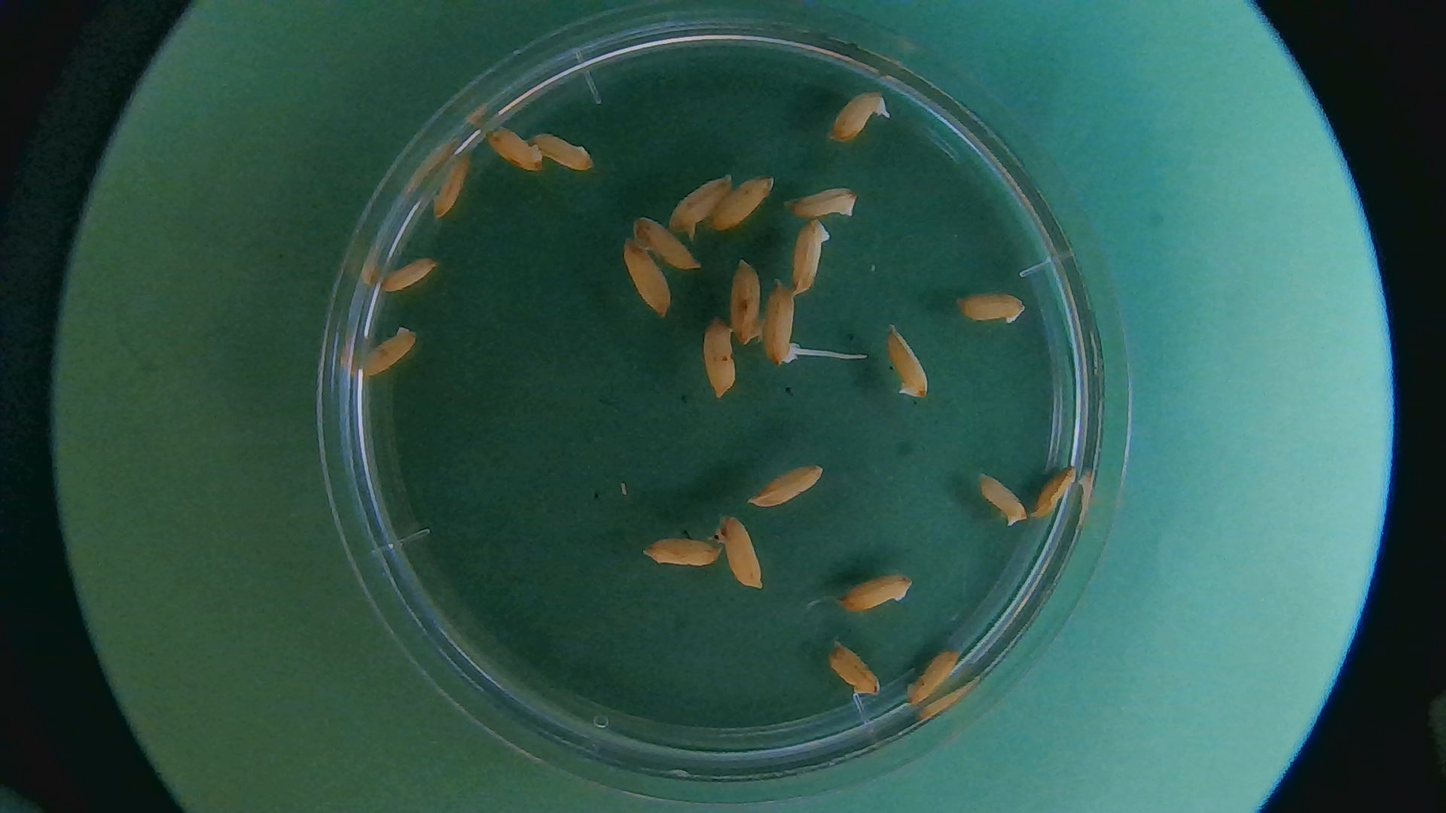no: (621, 236, 674, 316), (711, 513, 764, 591), (669, 174, 734, 235), (633, 216, 705, 270), (884, 323, 932, 399), (482, 120, 544, 178), (828, 639, 884, 703), (901, 647, 960, 707), (786, 219, 831, 296), (715, 173, 775, 230), (1029, 464, 1084, 525), (633, 536, 727, 571), (751, 464, 822, 510), (731, 259, 767, 346), (840, 570, 914, 612), (699, 321, 737, 402), (976, 472, 1028, 528), (955, 288, 1029, 327), (364, 327, 421, 376), (534, 132, 595, 175), (787, 185, 860, 220), (433, 152, 468, 216), (383, 255, 439, 291)
yes: (828, 89, 886, 146), (764, 276, 799, 367)
